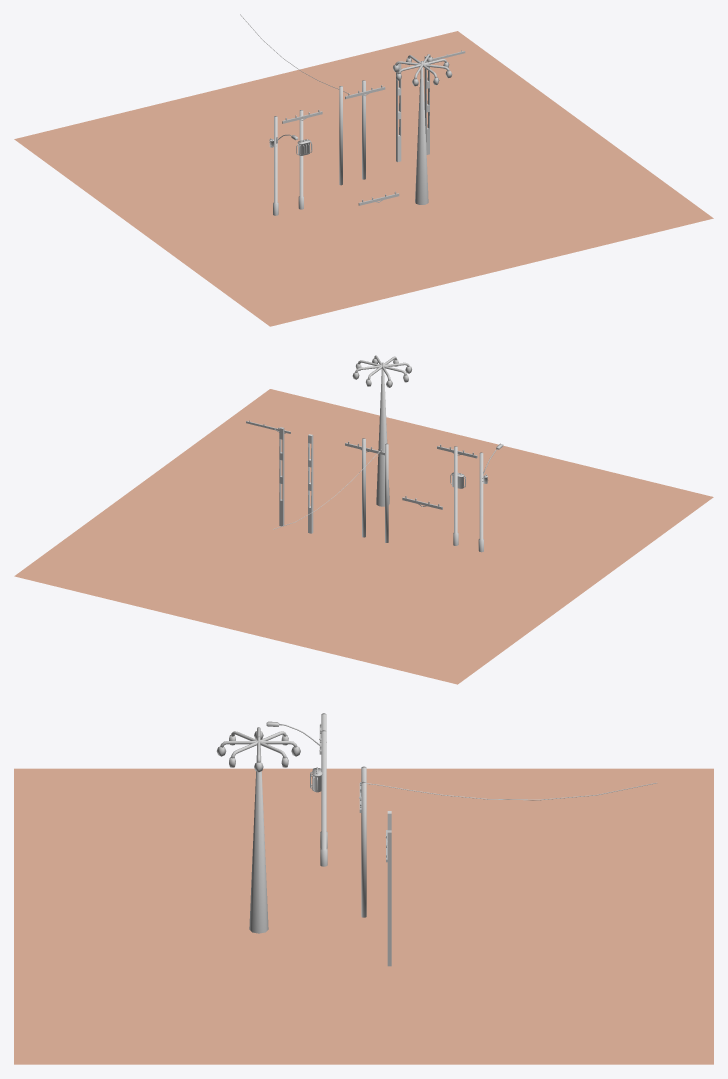
The model's file is EnergyPoles.fbx.
3 views of the same model, one above another, from view 1: azimuth 30°, elevation 25°; view 2: azimuth 150°, elevation 25°; view 3: azimuth 270°, elevation 25° (orthographic). The views are drawn at different scales.
Visible parts, largest first — view 1: Floor, BigPole, BaseWoodPole, WoodPole, ConcretePole, SingleConcretePole; view 2: Floor, BigPole, ConcretePole, BaseWoodPole, SingleConcretePole, WoodPole; view 3: Floor, BigPole, BaseWoodPole, WoodPole, ConcretePole.
Part boxes in pixels (box(x1,y1,x2,y2)): Floor: box(14, 31, 713, 326); BigPole: box(393, 54, 452, 204); BaseWoodPole: box(282, 110, 322, 209); WoodPole: box(345, 80, 385, 179); ConcretePole: box(422, 50, 465, 154); SingleConcretePole: box(396, 63, 401, 162); Floor: box(14, 389, 713, 684); BigPole: box(352, 355, 411, 506); ConcretePole: box(246, 420, 290, 526); BaseWoodPole: box(437, 444, 477, 545); SingleConcretePole: box(308, 434, 313, 533); WoodPole: box(345, 438, 384, 537); Floor: box(14, 768, 713, 1064); BigPole: box(216, 727, 300, 933); BaseWoodPole: box(319, 723, 327, 866); WoodPole: box(359, 782, 366, 917); ConcretePole: box(385, 830, 391, 966).
Bounding box in the file's own units: 2363 × 728 × 2363.
